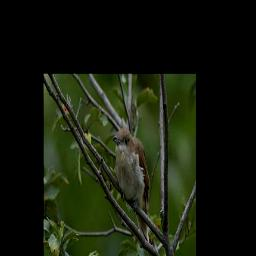Cuckoo: (113, 126, 151, 242)
